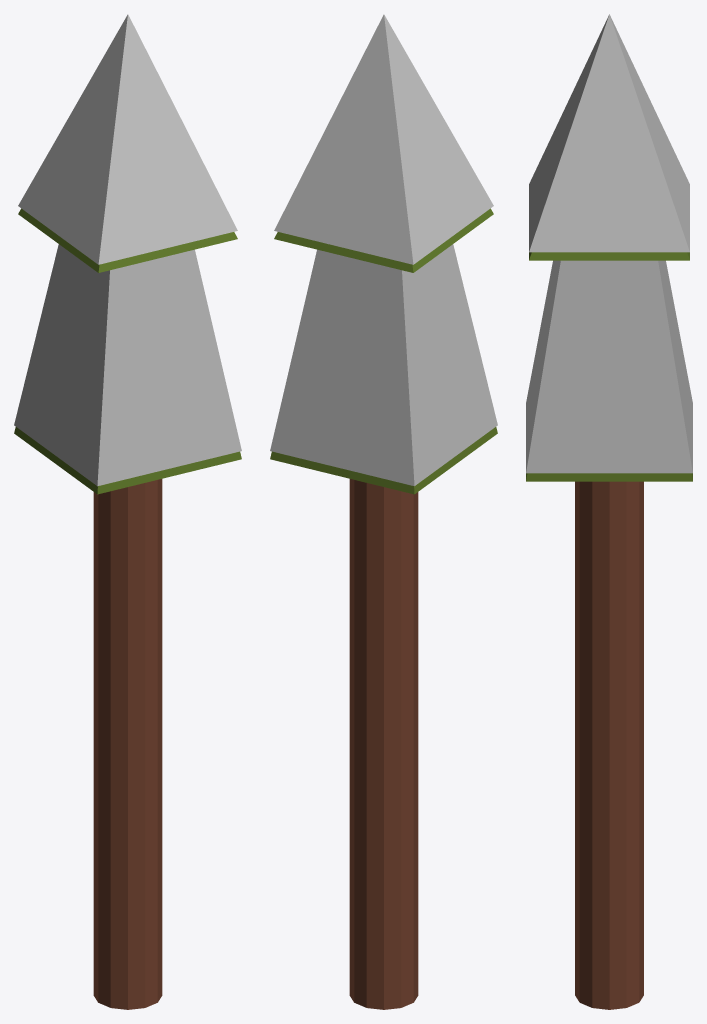
Rendered from Tree_16_winter_vc.fbx.
The picture shows the model from 3 angles, left to right: view 1: azimuth 30°, elevation 25°; view 2: azimuth 150°, elevation 25°; view 3: azimuth 270°, elevation 25°; orthographic projection.
Visible parts, largest first — view 1: Tree_16_winter_vc; view 2: Tree_16_winter_vc; view 3: Tree_16_winter_vc.
Part boxes in pixels (bbox=[...]): Tree_16_winter_vc: bbox=[14, 14, 241, 1009]; Tree_16_winter_vc: bbox=[270, 14, 497, 1009]; Tree_16_winter_vc: bbox=[526, 14, 692, 1009].
Size of the model in its own units: 53.67 by 348 by 53.67.
